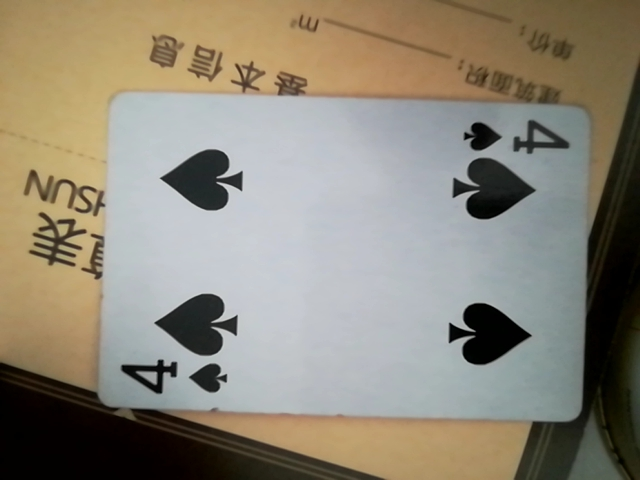ht 4: (93, 88, 596, 428)
